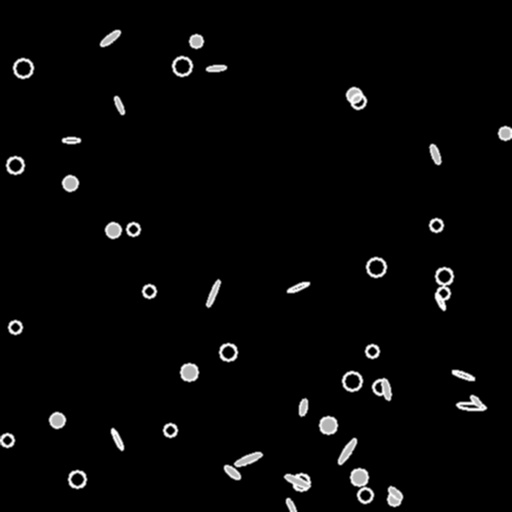pseudomonas: (337, 438, 357, 464), (205, 279, 221, 307), (234, 451, 262, 467), (284, 473, 310, 489), (99, 29, 121, 47), (286, 280, 310, 294), (428, 143, 442, 165), (110, 428, 124, 450), (451, 369, 475, 381), (223, 464, 241, 480), (457, 401, 485, 411), (387, 485, 403, 501), (113, 95, 125, 115), (434, 292, 446, 310), (381, 379, 391, 399), (469, 394, 483, 408), (285, 497, 297, 512), (298, 399, 308, 415), (207, 65, 225, 71), (63, 138, 79, 143)
synechocystis: (343, 372, 361, 390), (173, 57, 191, 75), (14, 59, 32, 77), (367, 258, 385, 276), (320, 417, 336, 433), (351, 469, 367, 485), (436, 268, 452, 284), (69, 471, 85, 487), (220, 344, 236, 360), (181, 364, 197, 380), (293, 474, 309, 490), (7, 157, 23, 173), (358, 488, 372, 502), (347, 88, 361, 102), (63, 176, 77, 190), (373, 380, 387, 394), (106, 223, 120, 237), (50, 413, 64, 427), (351, 94, 365, 108), (190, 35, 202, 47), (9, 321, 21, 333), (366, 345, 378, 357), (143, 285, 155, 297), (164, 424, 176, 436), (388, 493, 400, 505), (430, 219, 442, 231), (127, 223, 139, 235), (499, 127, 511, 139), (1, 434, 13, 446), (437, 287, 449, 299)
